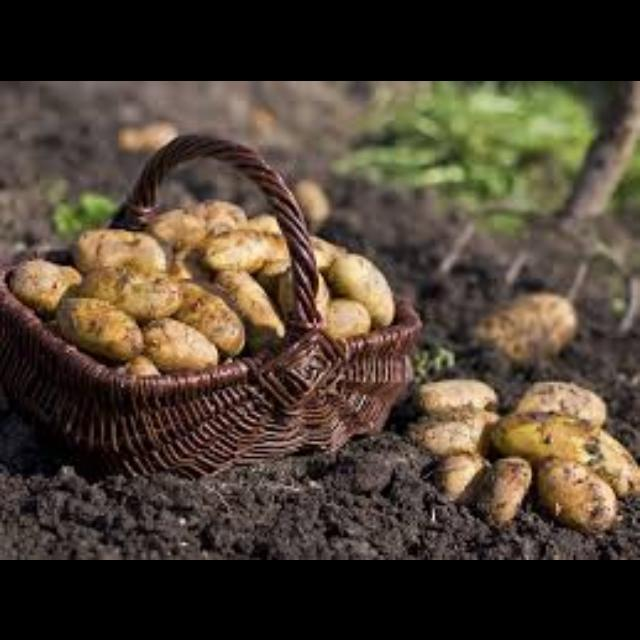Diseased-fungal potato: (502, 414, 636, 494), (170, 281, 256, 351), (473, 289, 569, 351), (542, 460, 624, 528), (72, 221, 166, 275), (61, 296, 142, 356), (338, 255, 402, 327), (131, 317, 219, 369), (468, 456, 530, 524), (85, 273, 179, 317), (7, 260, 83, 310), (202, 225, 280, 273), (417, 378, 499, 416), (436, 452, 494, 498)
